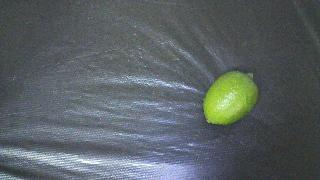LOCAL: (203, 71, 258, 125)
